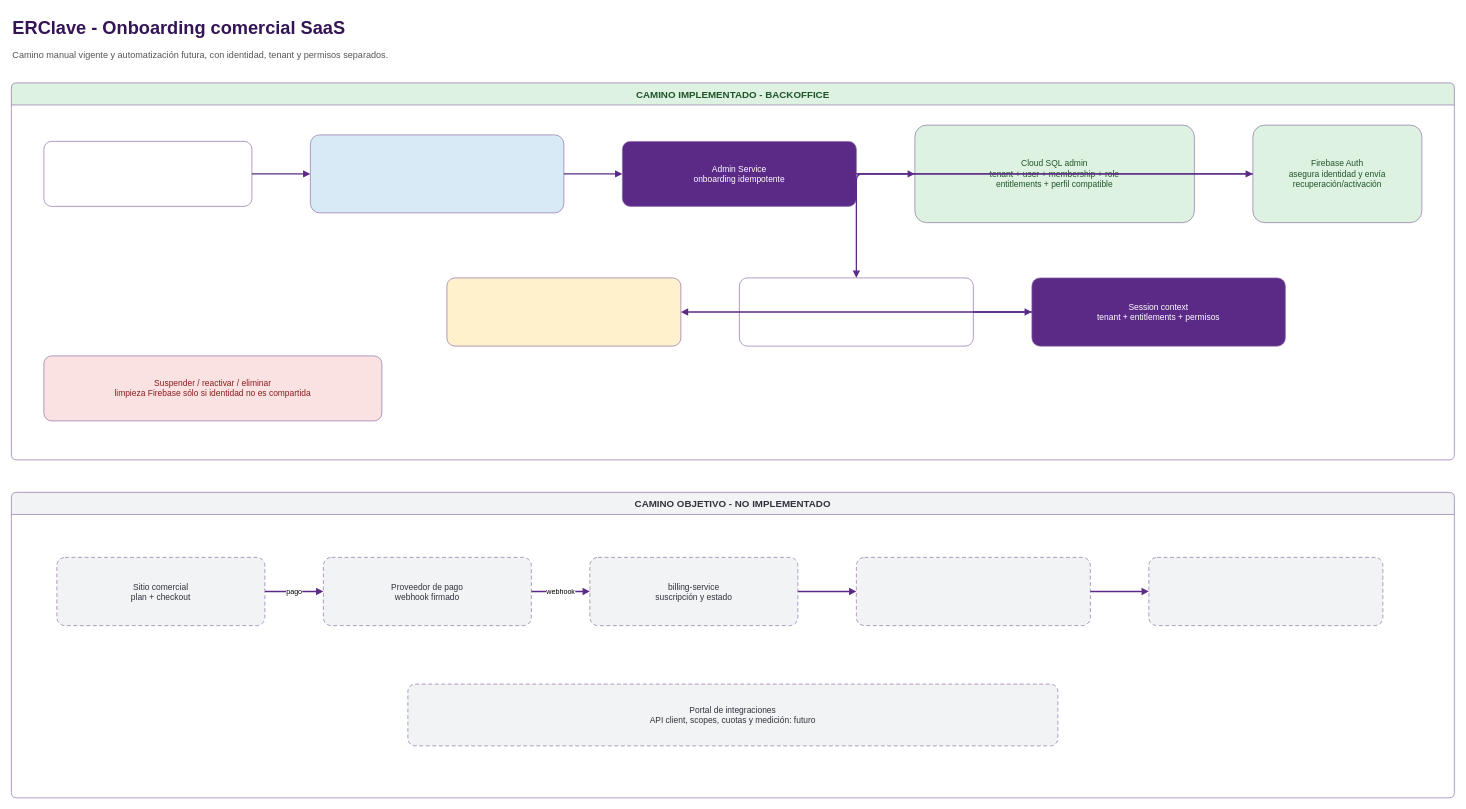
The diagram is 1466 pixels wide and 809 high, and some of its shapes have lost their labels. The shapes that lost their labels are listed below. From the top down, each one's centre as x and y in pixels, then its label:
At [147,173]: "Operador interno allowlisted inicia alta".
At [437,173]: "Nombre, slug, plan, owner, entidad fiscal, sucursal y módulos".
At [563,311]: "Módulos activos sin permisos automáticos".
At [856,311]: "Owner define contraseña y accede a ERClave".
At [973,591]: "provisioning-service orquestación durable".
At [1265,591]: "admin-service mismo contrato idempotente".
